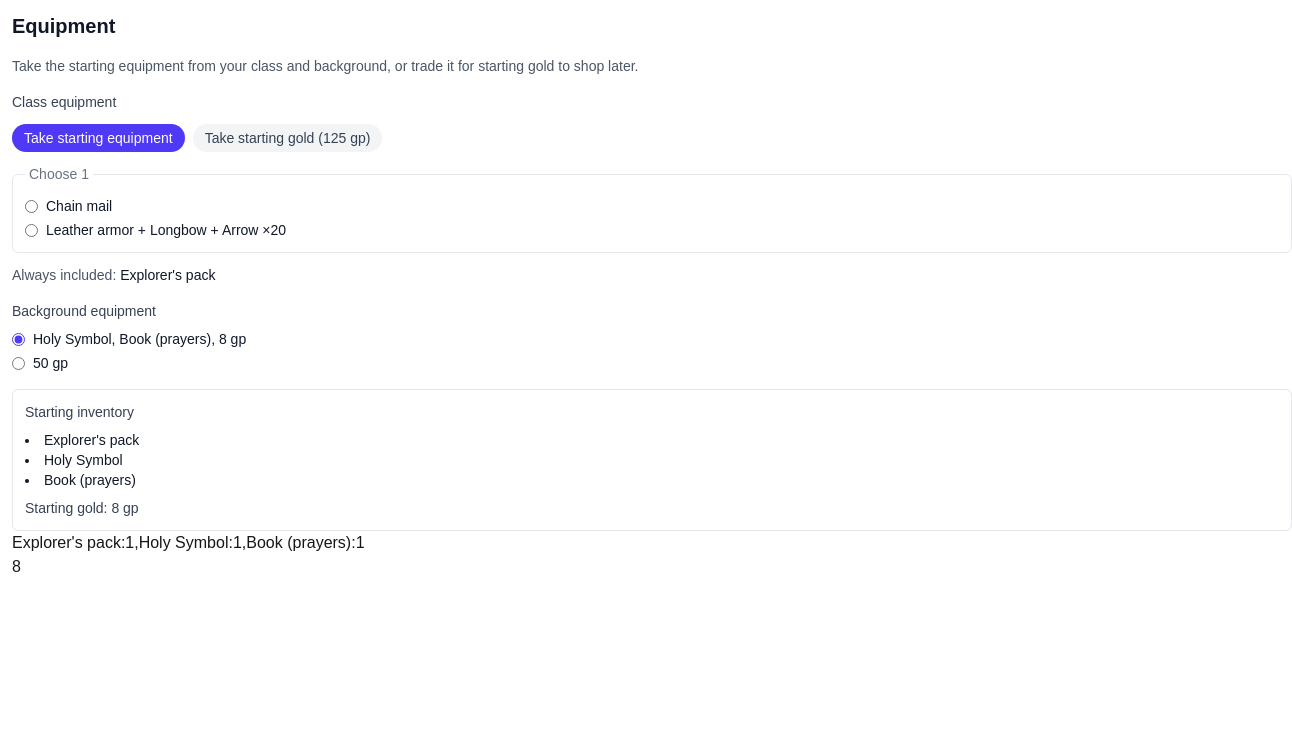
Test: EquipmentStep — starting equipment vs gold › background option A adds its items + gold; option B adds only gold
Click the radio button labelled "50 gp" at (18, 363), box [12,356,25,370]
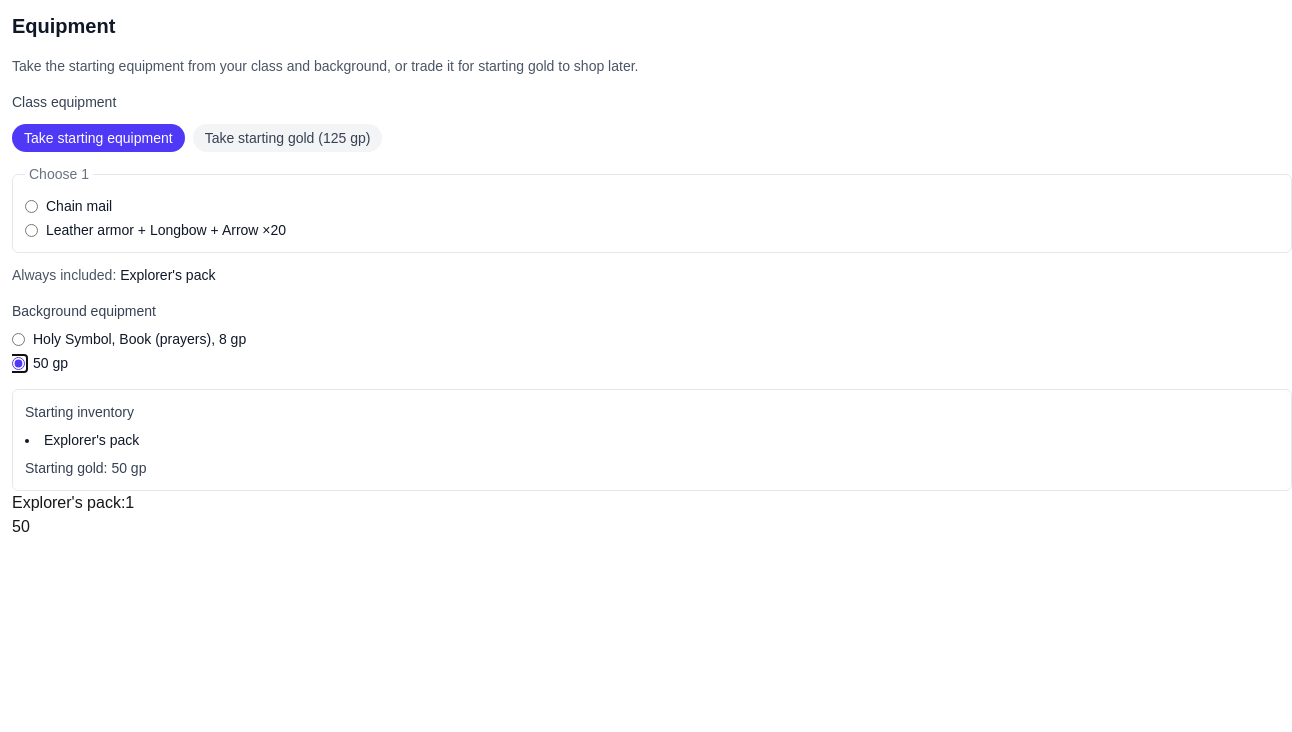
Check: the text with test id "draft-inventory" reads "Explorer's pack:1", box [12,494,134,511]
